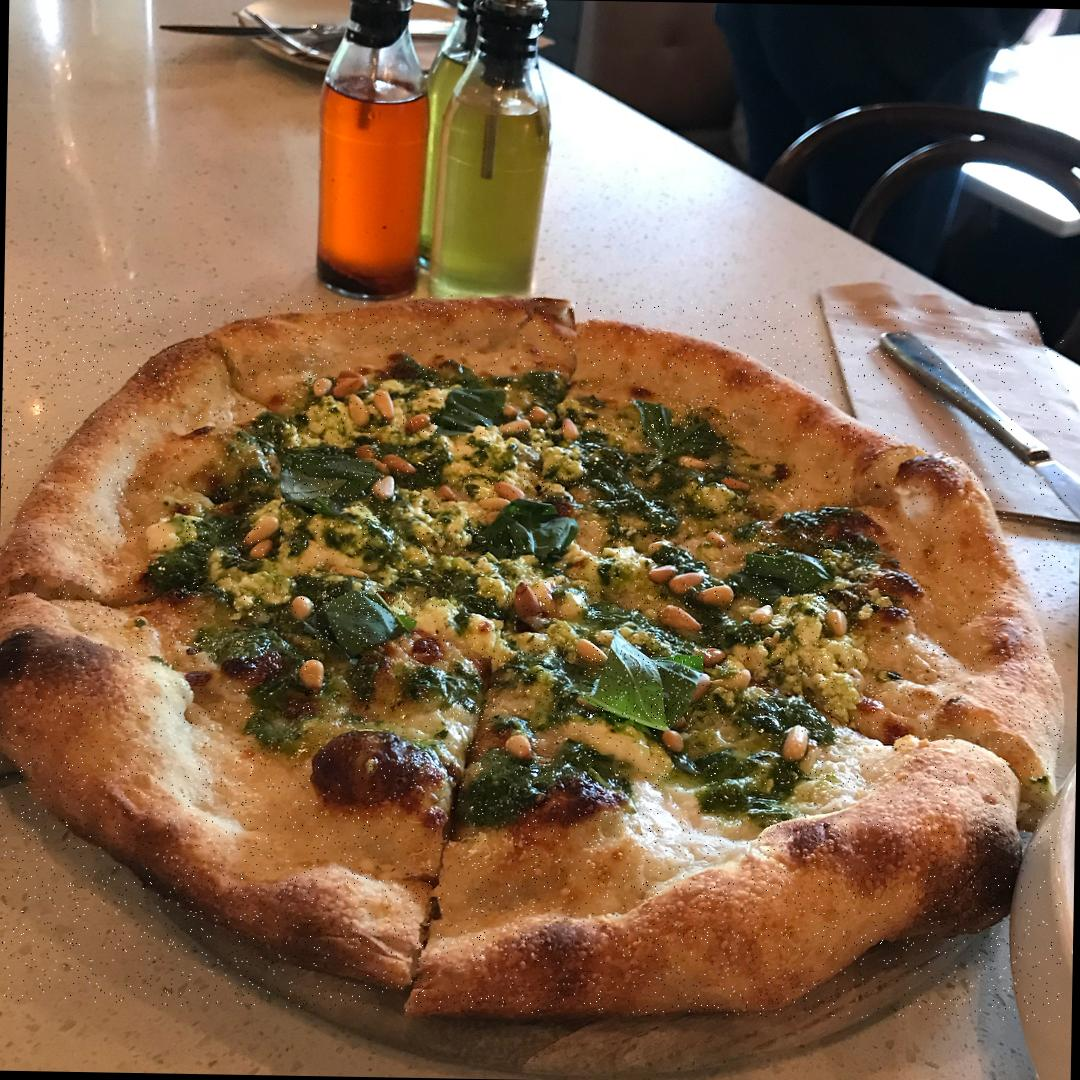Basil: (592, 649, 696, 723), (282, 447, 382, 512), (482, 500, 576, 562), (636, 402, 722, 468), (317, 591, 409, 651), (738, 553, 826, 601), (441, 389, 504, 430)
Pizza: (0, 287, 1072, 1022)
